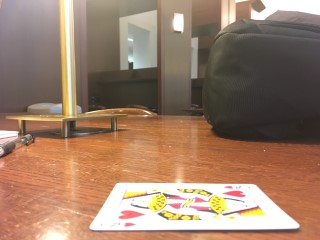QueenOfHearts: (89, 182, 300, 230)
